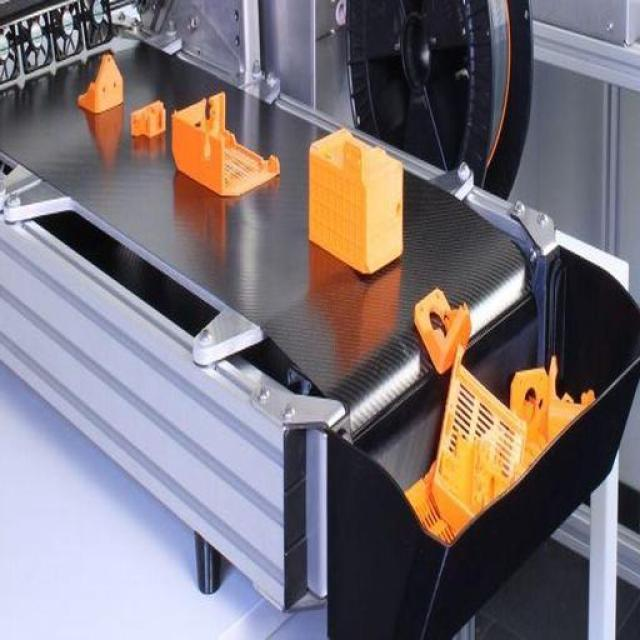conveyor: (0, 37, 542, 441)
